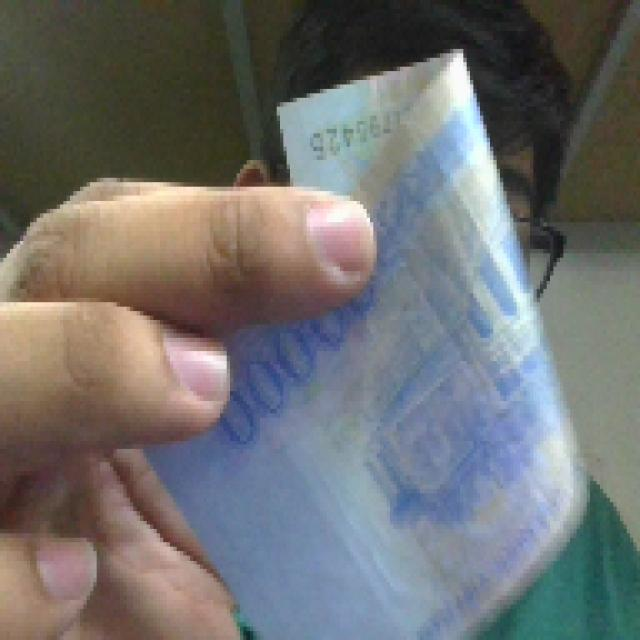50 000 VND: (133, 40, 590, 636)
